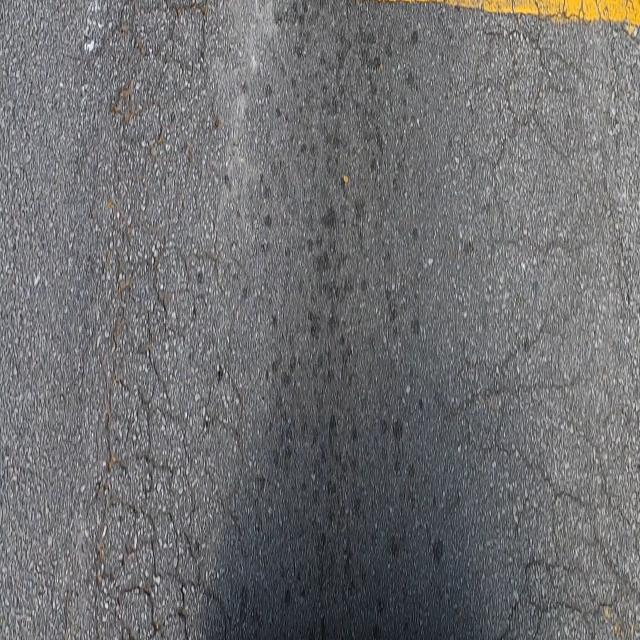Retak-Buaya: (454, 1, 640, 636), (92, 1, 254, 640)
